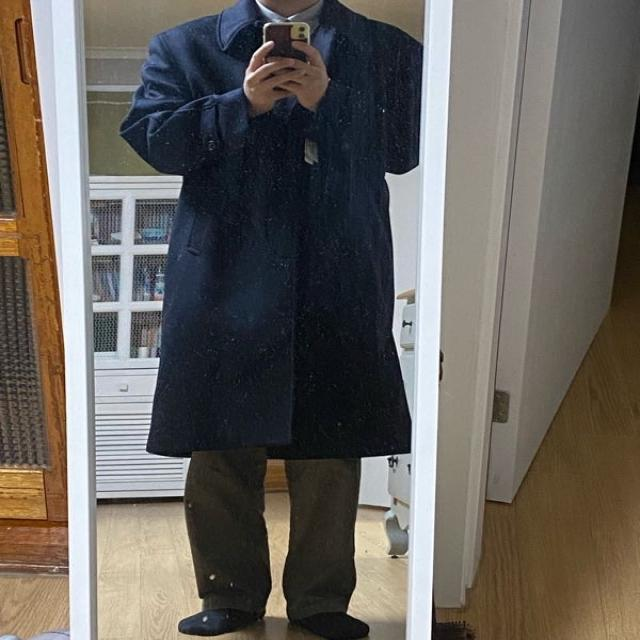coat: (118, 0, 417, 459)
denimpants: (188, 448, 357, 620)
